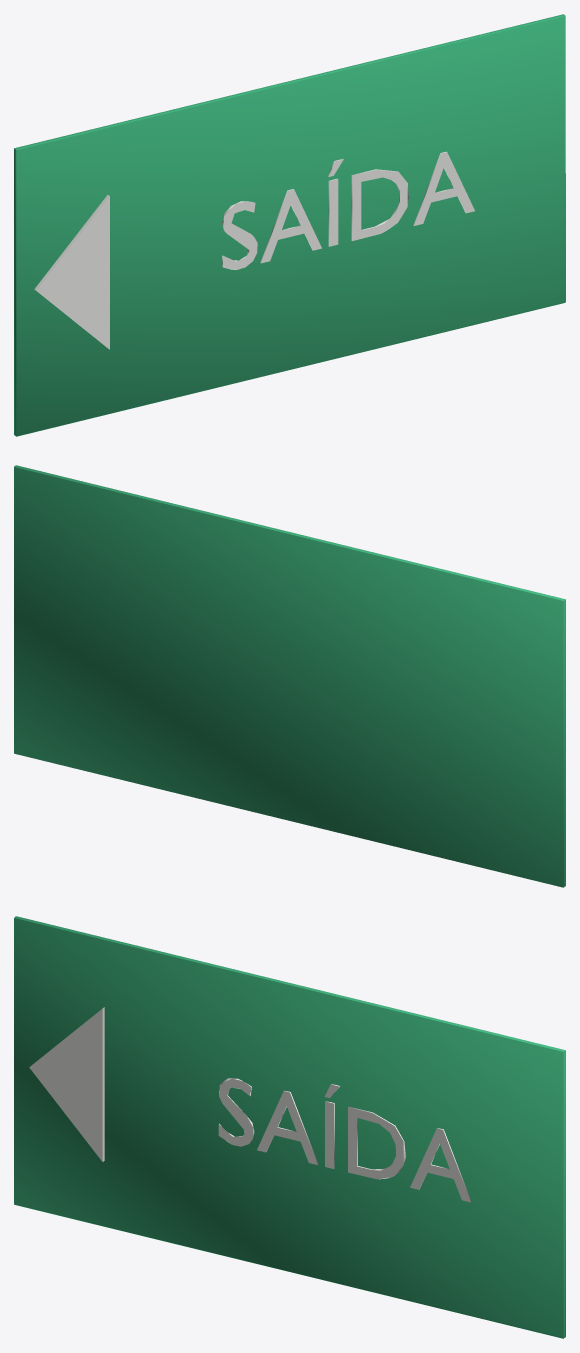
Rendered from HID-INC-009_lod1.glb.
The picture shows the model from 3 angles, top to bottom: view 1: azimuth 30°, elevation 25°; view 2: azimuth 150°, elevation 25°; view 3: azimuth 330°, elevation 25°; orthographic projection.
Parts seen in each view (by area): view 1: HID-INC-009_placa, HID-INC-009_texto, HID-INC-009_seta; view 2: HID-INC-009_placa; view 3: HID-INC-009_placa, HID-INC-009_texto, HID-INC-009_seta.
Part boxes in pixels (<box>): HID-INC-009_placa: <box>14,14,565,436</box>; HID-INC-009_texto: <box>222,151,474,269</box>; HID-INC-009_seta: <box>34,195,109,349</box>; HID-INC-009_placa: <box>14,465,565,887</box>; HID-INC-009_placa: <box>14,916,565,1338</box>; HID-INC-009_texto: <box>218,1078,471,1202</box>; HID-INC-009_seta: <box>29,1007,104,1161</box>.
Size of the model in its own units: 0.3 by 0.1497 by 0.005.
